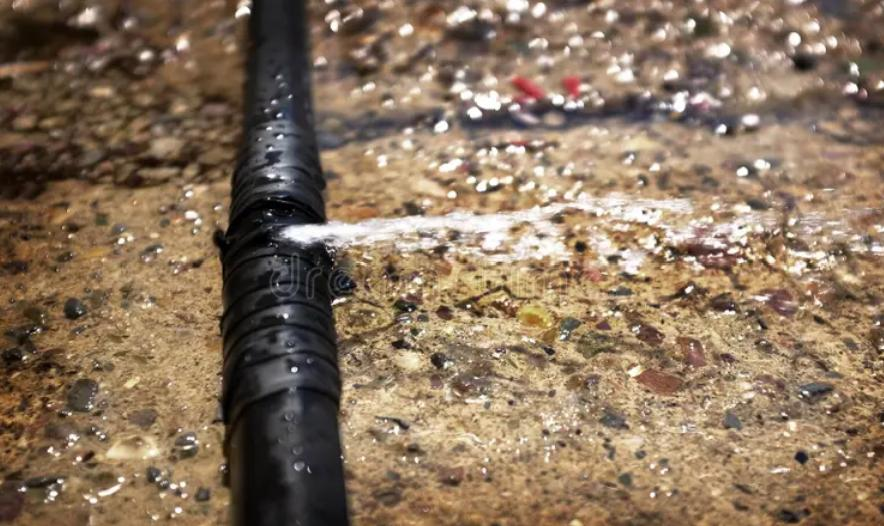pipe burst: (275, 216, 402, 251)
